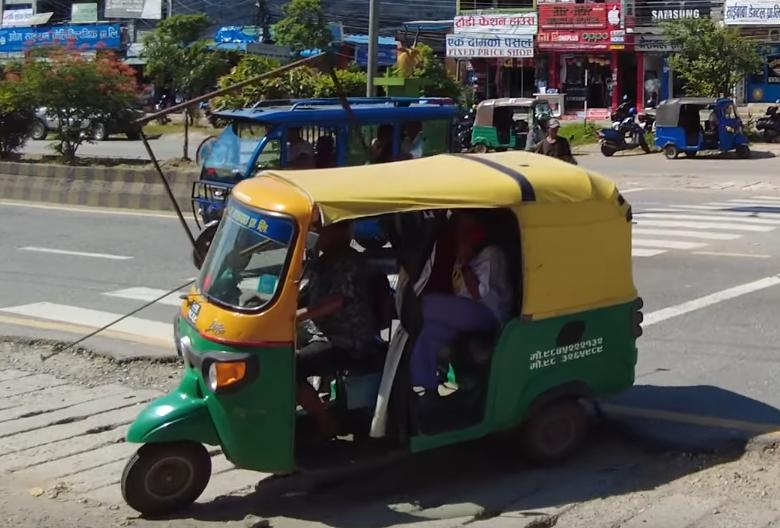auto_rickshaw: (112, 141, 648, 528), (658, 92, 755, 160), (466, 92, 565, 156)
scooter: (595, 107, 655, 155)
